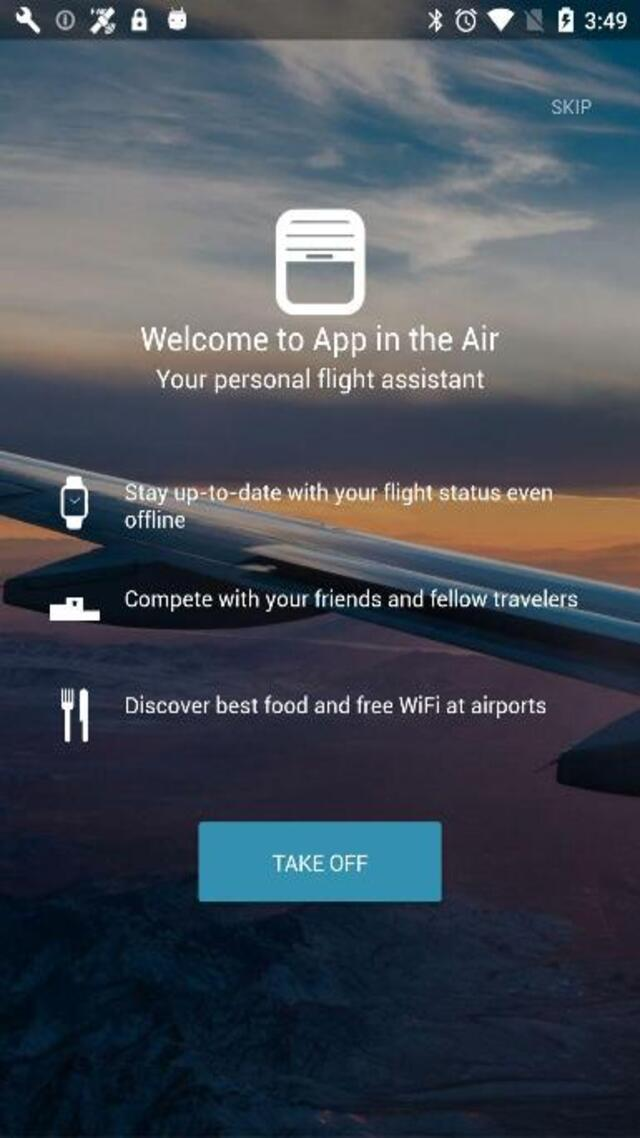Icon: (61, 474, 89, 529), (61, 687, 89, 742), (50, 596, 100, 620)
Image: (276, 208, 366, 316)
Text: (125, 692, 547, 720), (149, 364, 491, 398), (126, 587, 580, 612), (140, 323, 503, 354), (123, 484, 559, 508), (268, 848, 372, 877), (124, 509, 188, 532), (552, 98, 592, 115)
TextButton: (198, 822, 440, 902)
